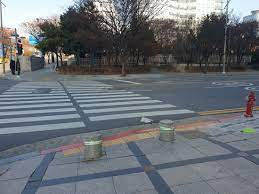guide_blocks: (105, 131, 164, 144), (175, 125, 223, 132), (62, 148, 90, 155)
